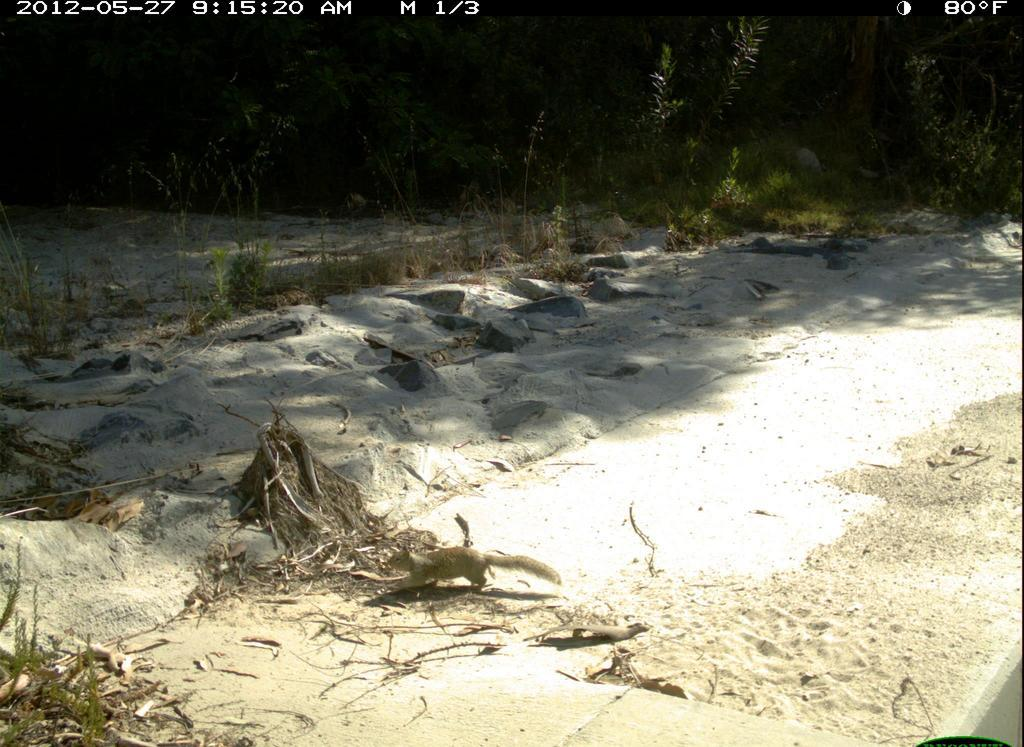squirrel: (386, 516, 580, 619)
